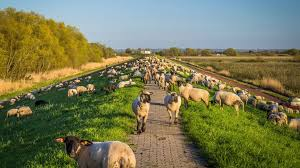sheep: (52, 133, 138, 168), (175, 79, 211, 110), (129, 87, 152, 133), (212, 88, 248, 116), (162, 89, 181, 124), (267, 112, 283, 129), (154, 70, 166, 92), (117, 77, 133, 90), (16, 105, 32, 117), (33, 98, 49, 108), (75, 84, 87, 95), (67, 87, 77, 98), (24, 91, 35, 101), (86, 83, 96, 93)
